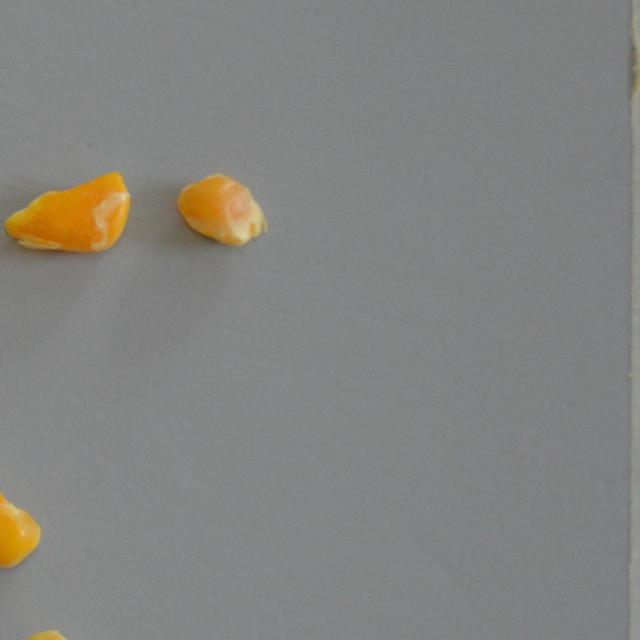pelicula: (165, 154, 291, 268), (4, 156, 130, 269), (0, 468, 44, 570)
